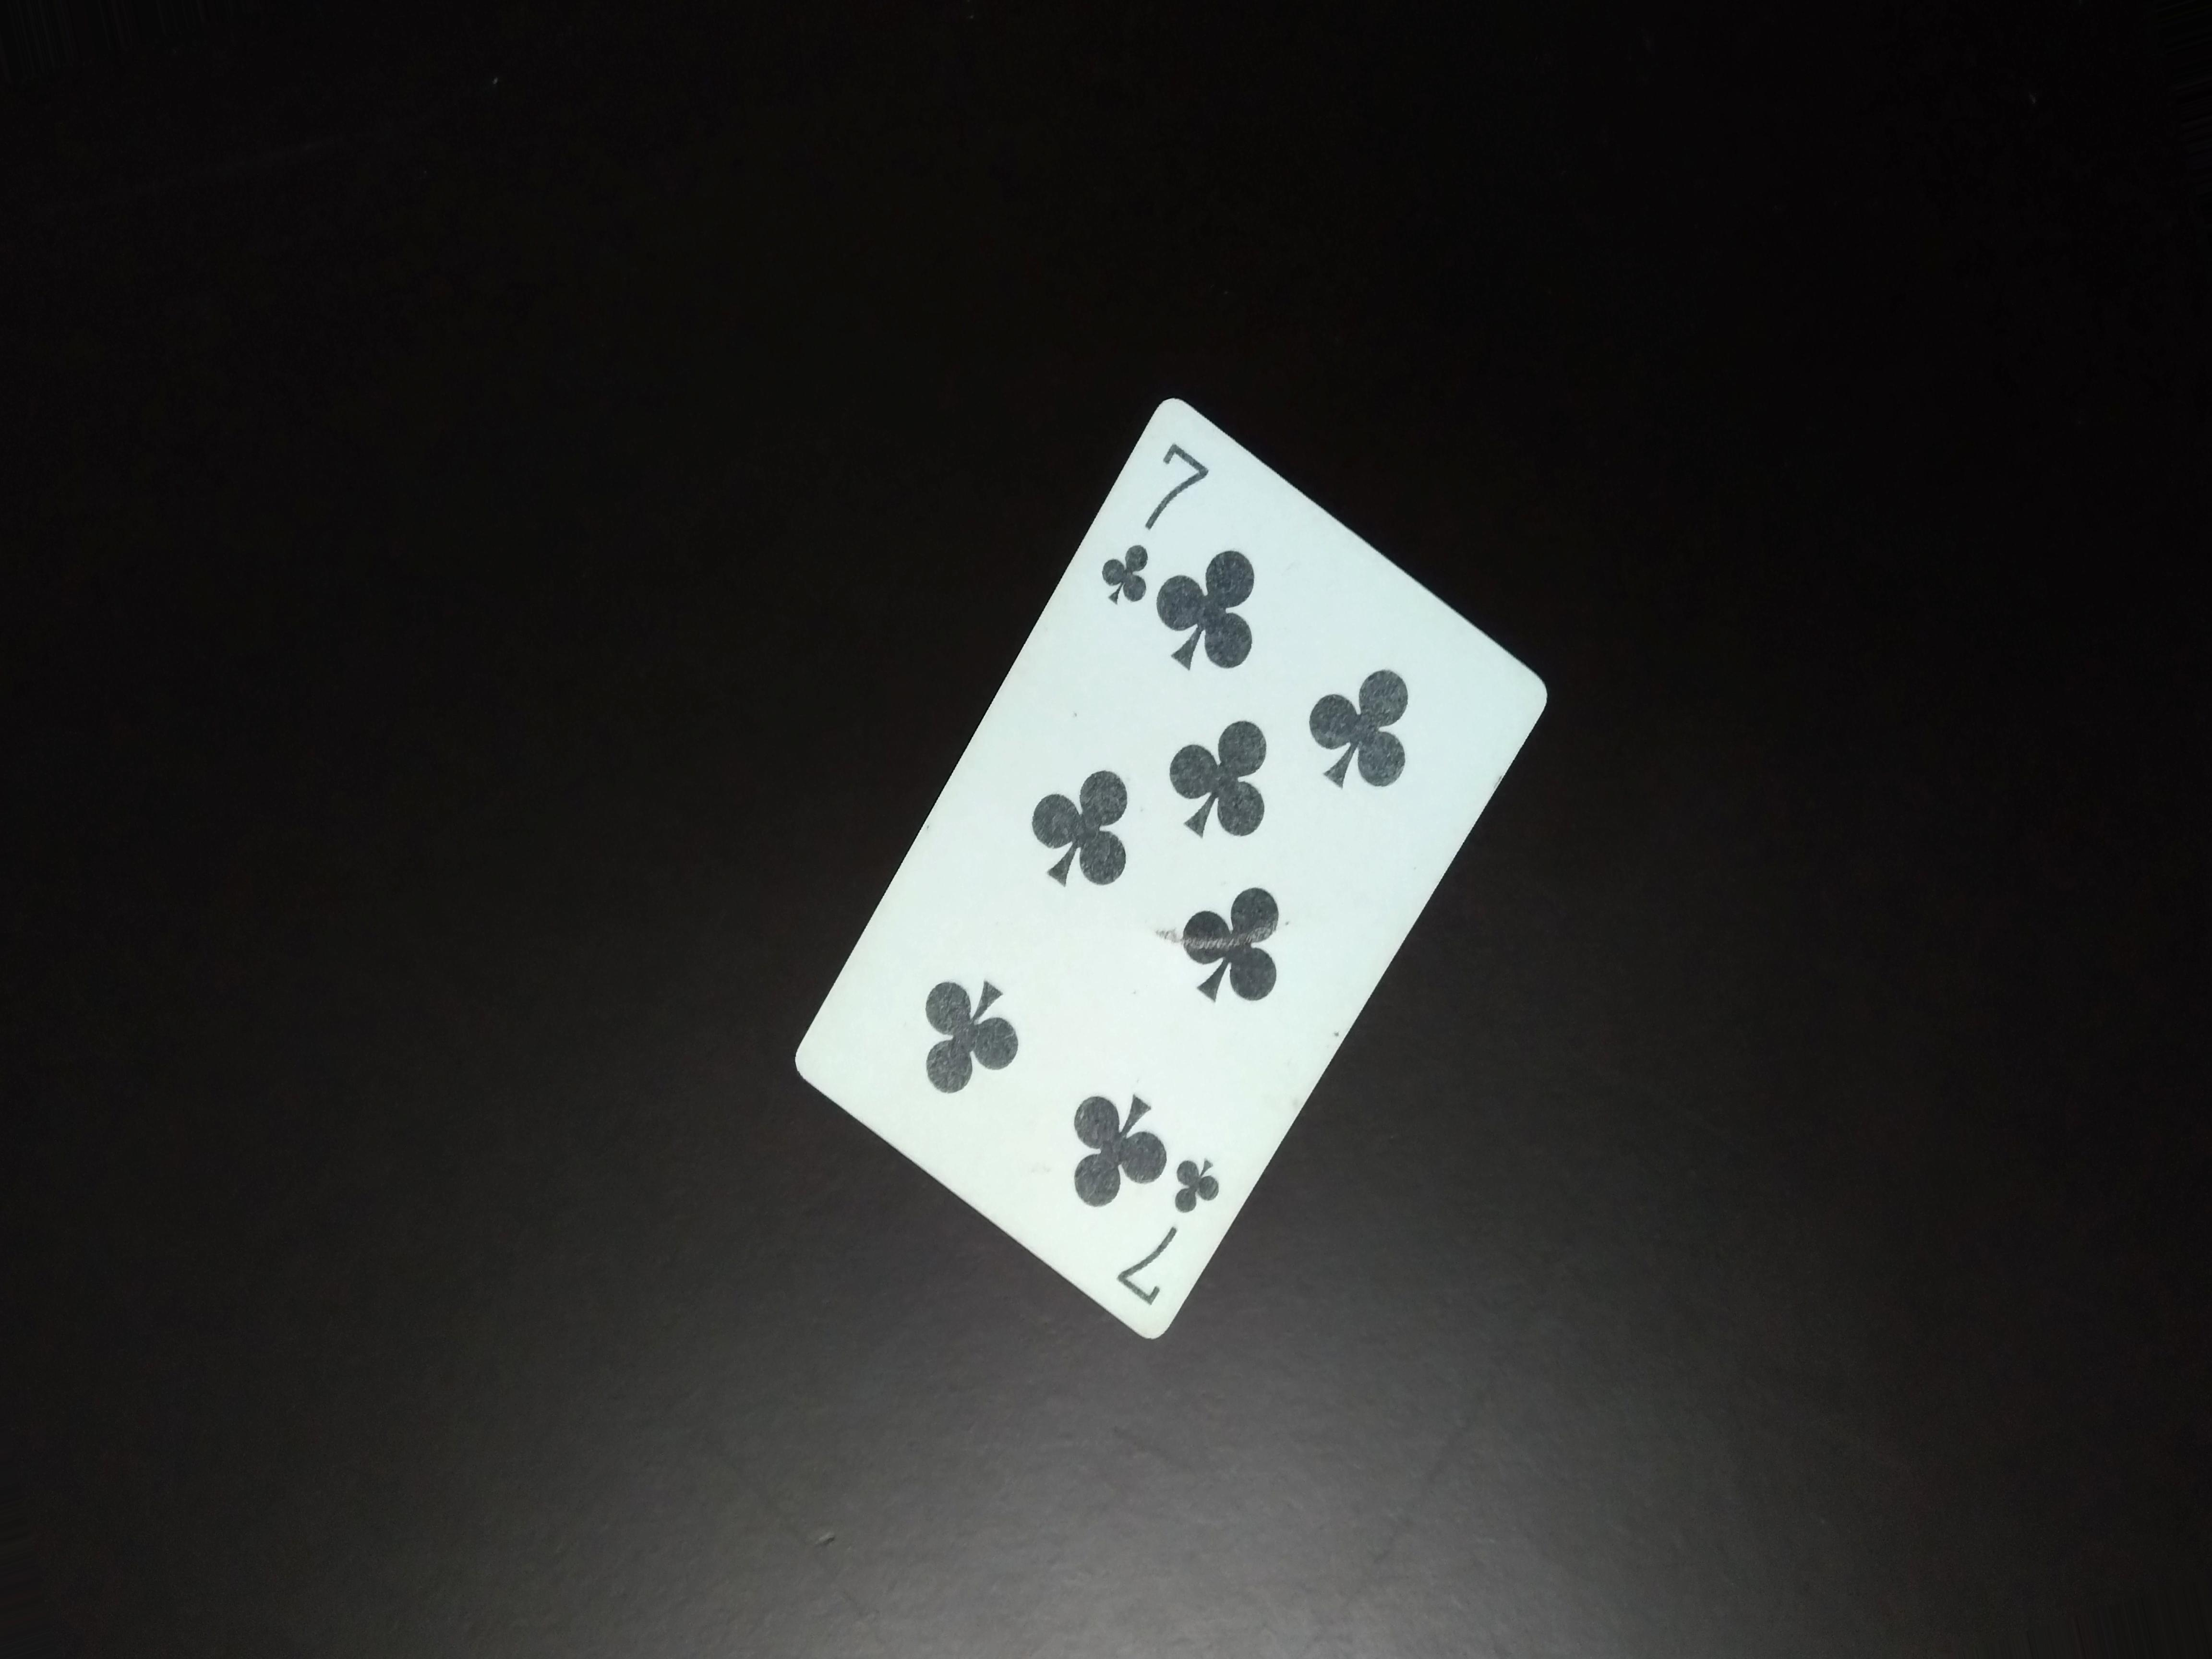7C: (1092, 425, 1228, 626)
